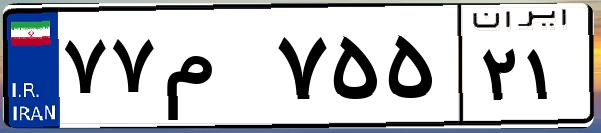1: (525, 38, 570, 115)
2: (475, 38, 525, 113)
5: (385, 28, 445, 110), (330, 28, 385, 110)
7: (270, 28, 330, 110), (57, 26, 110, 100), (110, 28, 158, 98)
م: (158, 20, 270, 120)
